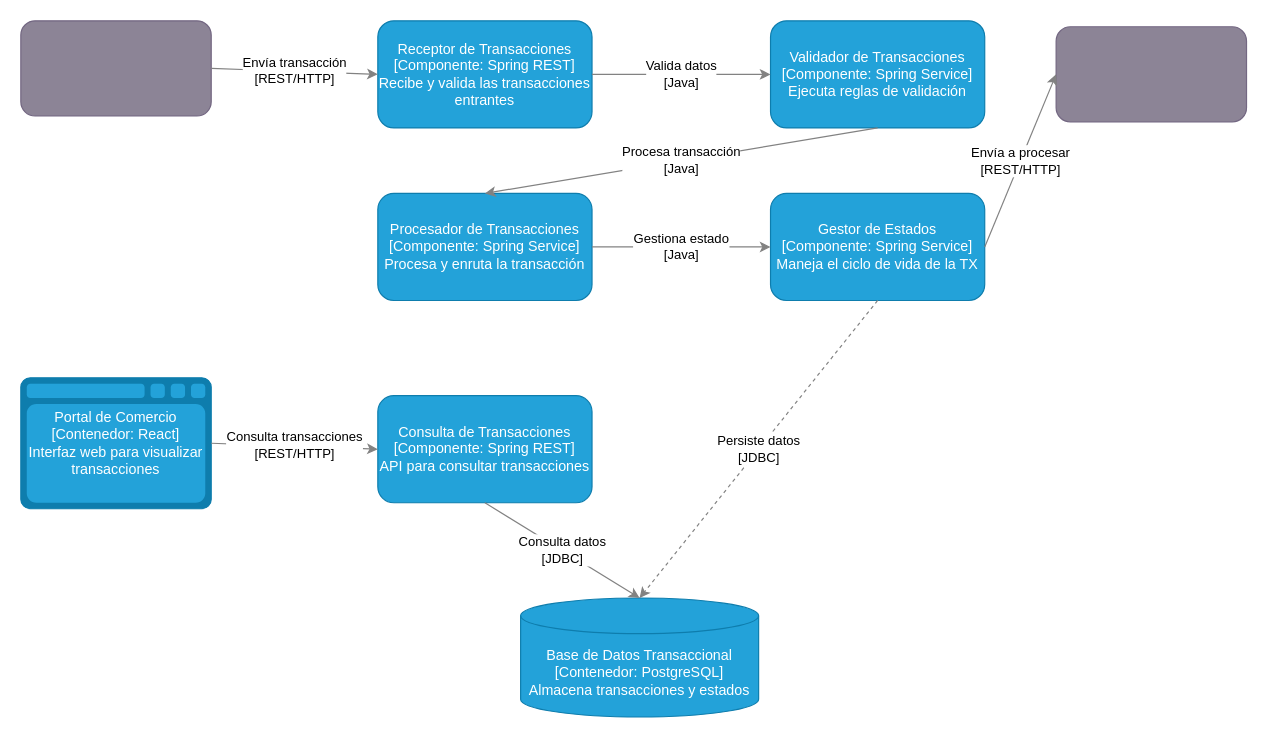
Some shapes in this 1267 by 738 pixel diagram are drawn without their labels. Here are the shapes that lost their labels. From the top down, the box of each, then its label:
(20, 20, 211, 116): POS [Sistema Externo] Sistema de Punto de Venta
(1055, 26, 1247, 122): Procesador de Pagos [Sistema Externo] Procesa las transacciones
